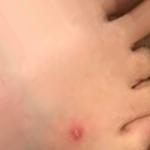Ants: (64, 121, 86, 144)
